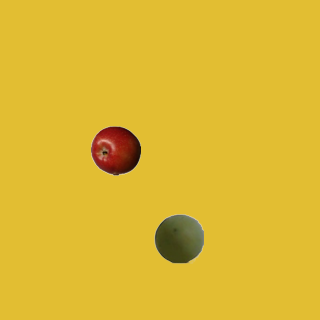Apple Braeburn: (90, 125, 140, 175)
Grape White 4: (153, 213, 203, 263)
